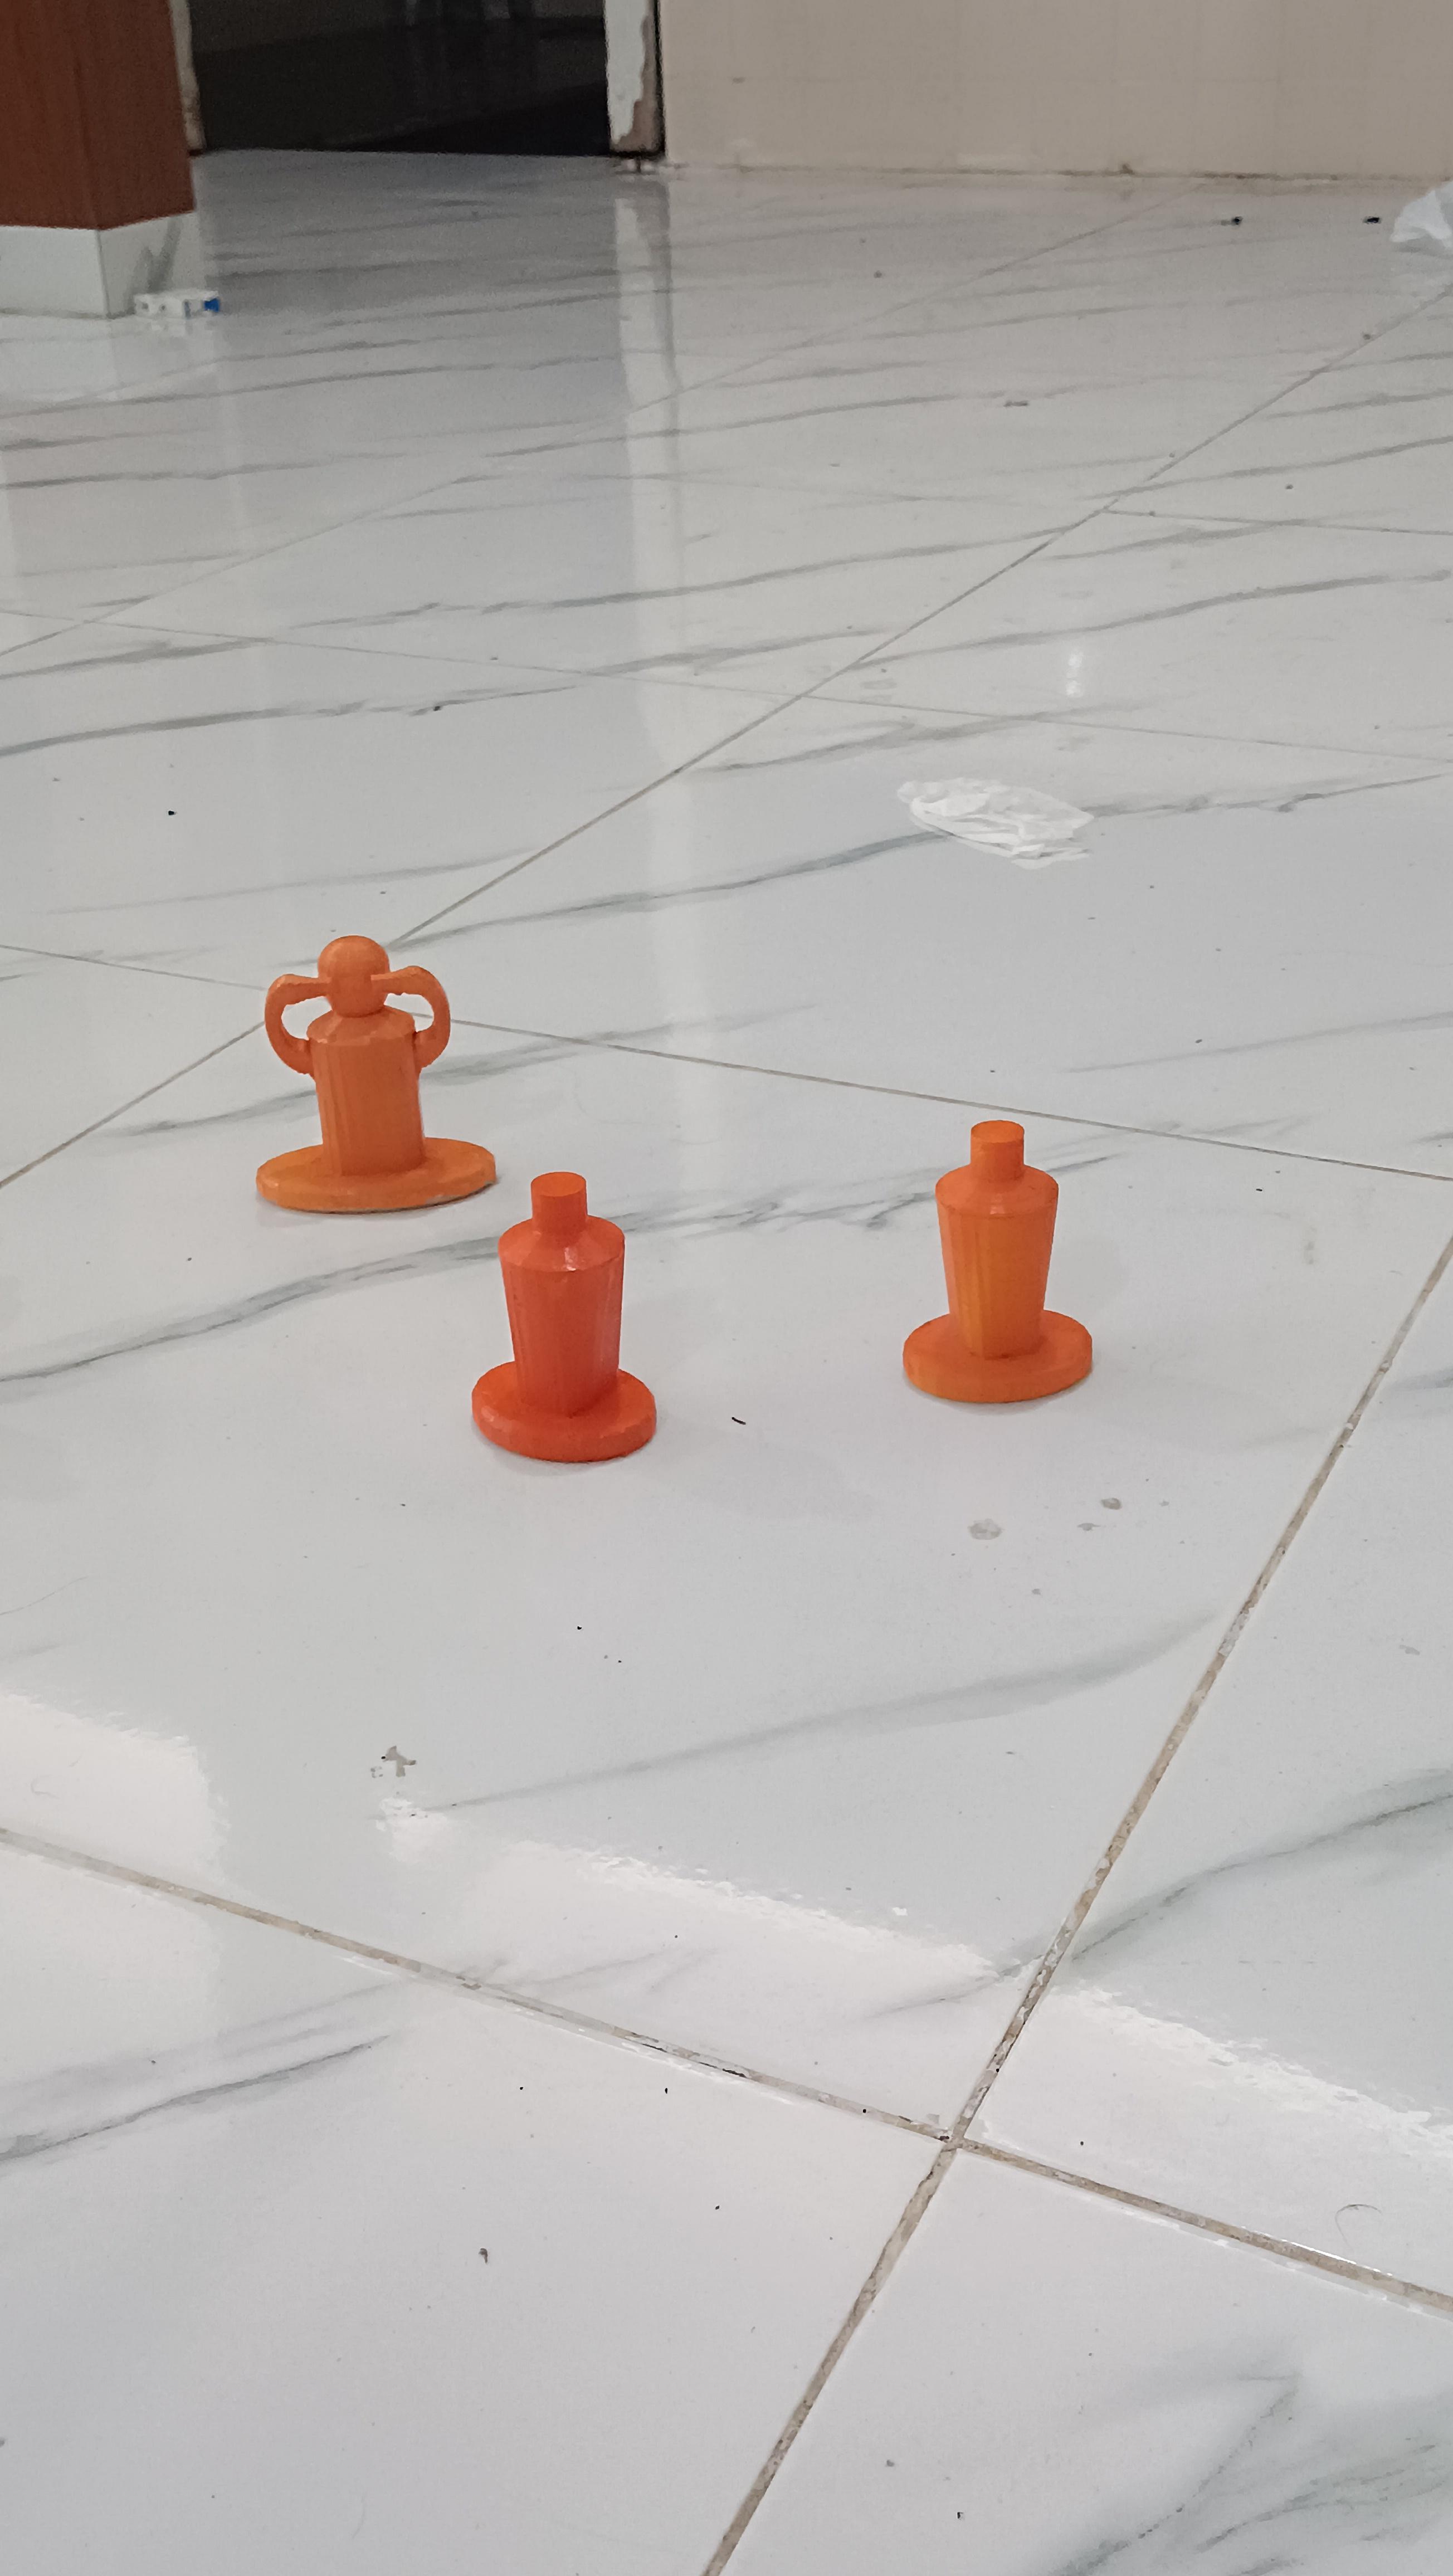dummy: (883, 1097, 1105, 1429), (482, 1169, 675, 1479)
real_person: (231, 924, 507, 1221)
